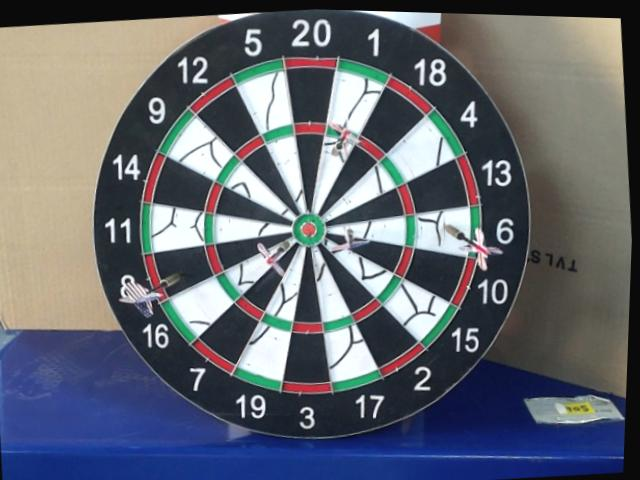single_1: (311, 138, 347, 214)
single_6: (424, 212, 465, 250), (419, 225, 438, 247)
single_8: (159, 246, 210, 293)
